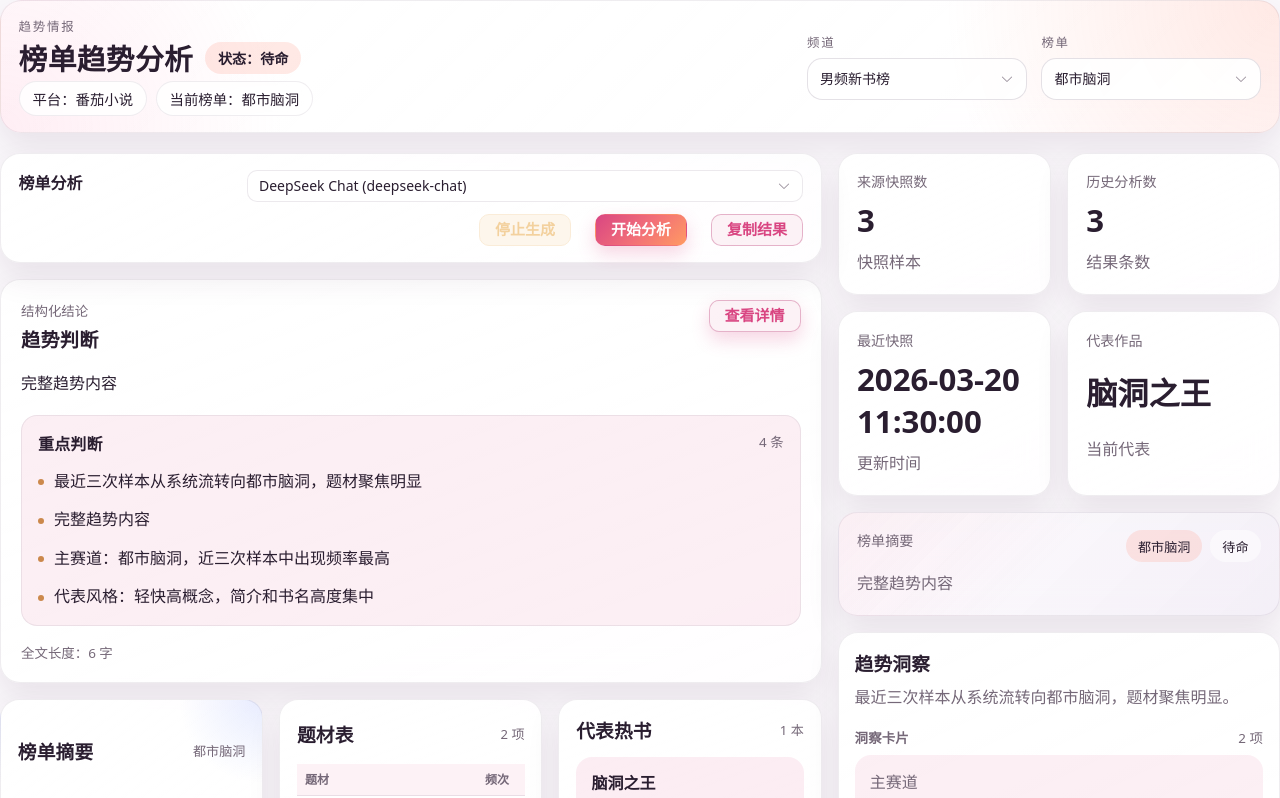
TrendView › does not render raw json fragments while trend streaming is in progress
Click the button with test id "analysis-toolbar-rerun": (641, 230) [595,214,687,246]
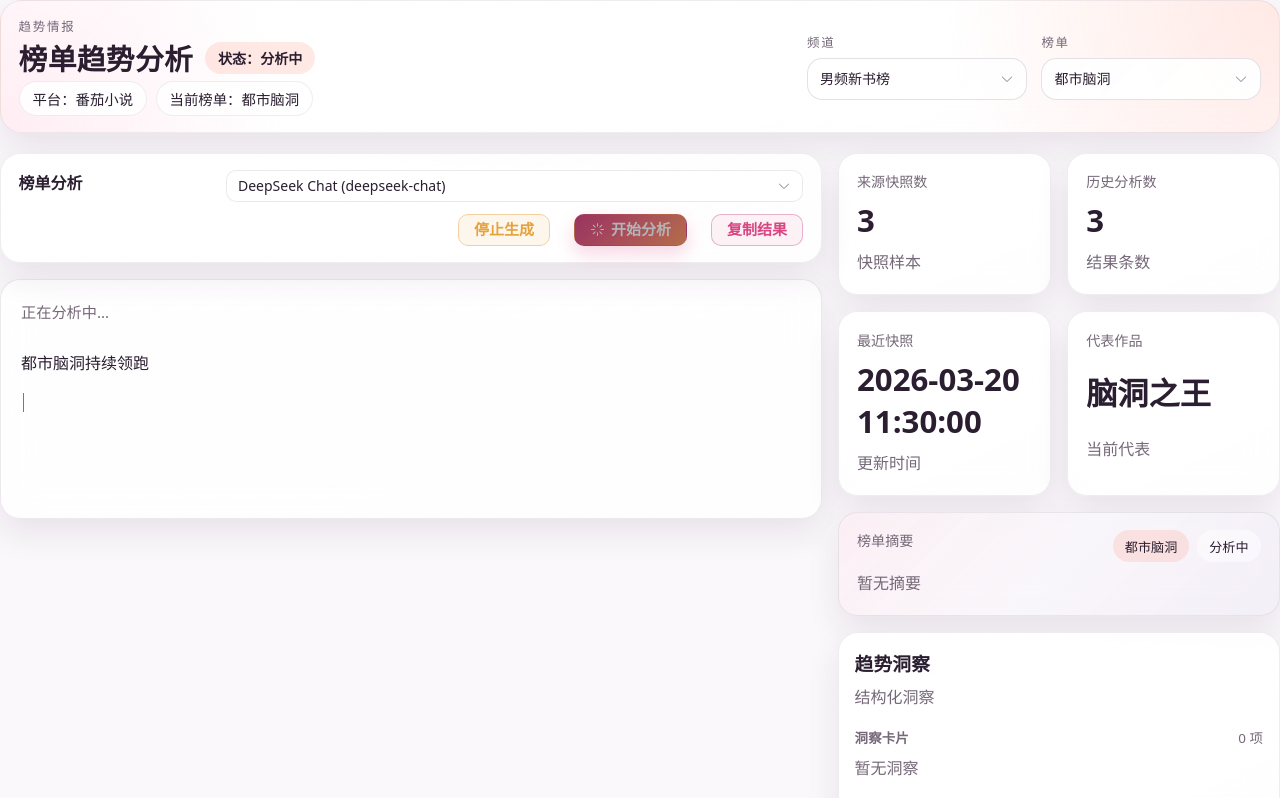
Check: the element with test id "analysis-result-card" shows "都市脑洞持续领跑", box [21,352,149,374]
